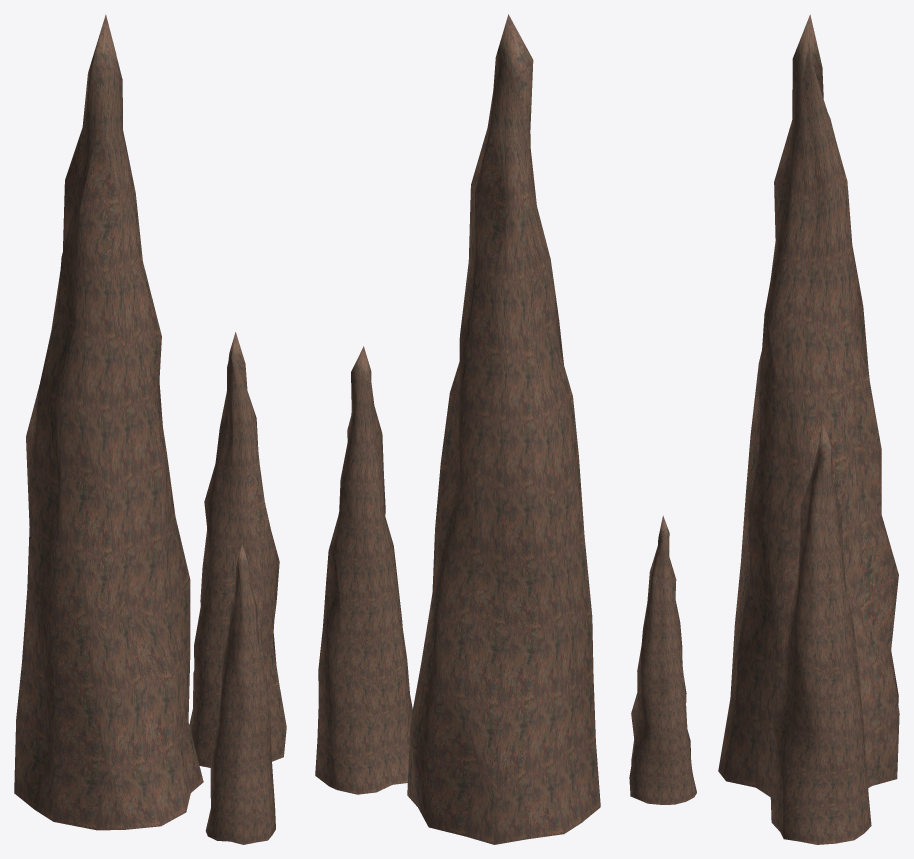
The model's file is cave_objects_stalag1.glb.
3 views of the same model, side by side, from view 1: azimuth 30°, elevation 25°; view 2: azimuth 150°, elevation 25°; view 3: azimuth 270°, elevation 25° (orthographic). The views are drawn at different scales.
Visible parts, largest first — view 1: stalag1-col; view 2: stalag1-col; view 3: stalag1-col.
Part boxes in pixels (x1=…): stalag1-col: x1=14, y1=14, x2=286, y2=844; stalag1-col: x1=315, y1=14, x2=600, y2=844; stalag1-col: x1=629, y1=14, x2=899, y2=844.
Bounding box in the file's own units: 1.01 × 3 × 0.9743.
Materials: 1 (1 with a texture image).
